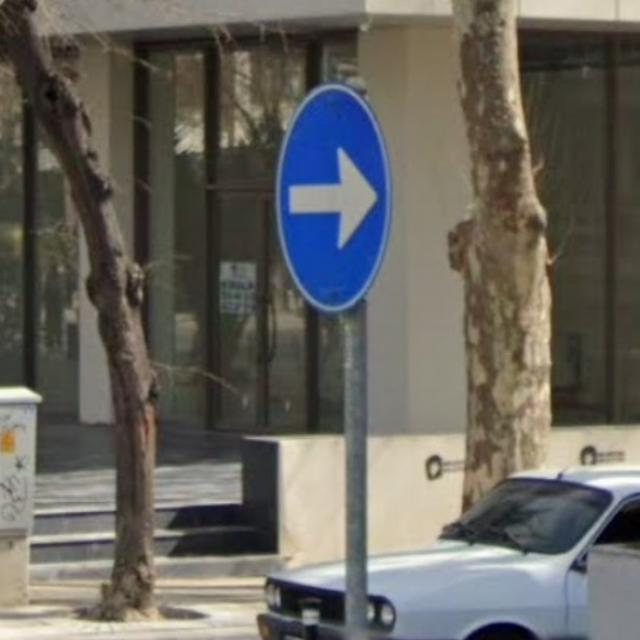Turn Right: (269, 79, 390, 313)
